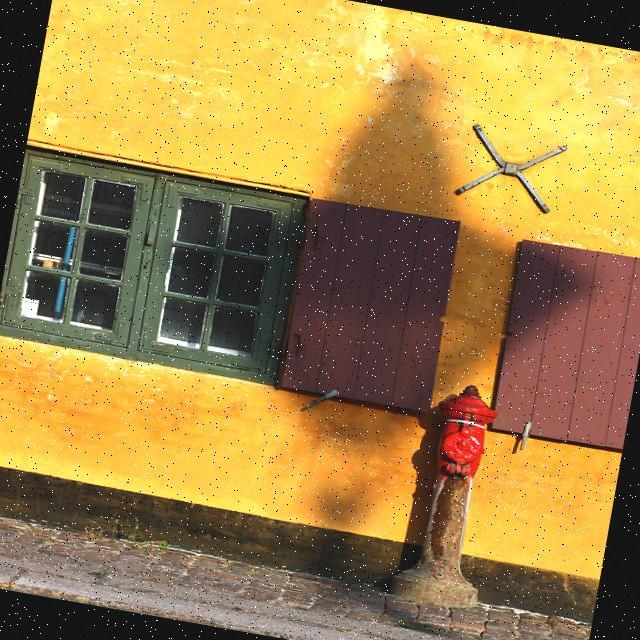fire_hydrant: (389, 376, 514, 612)
